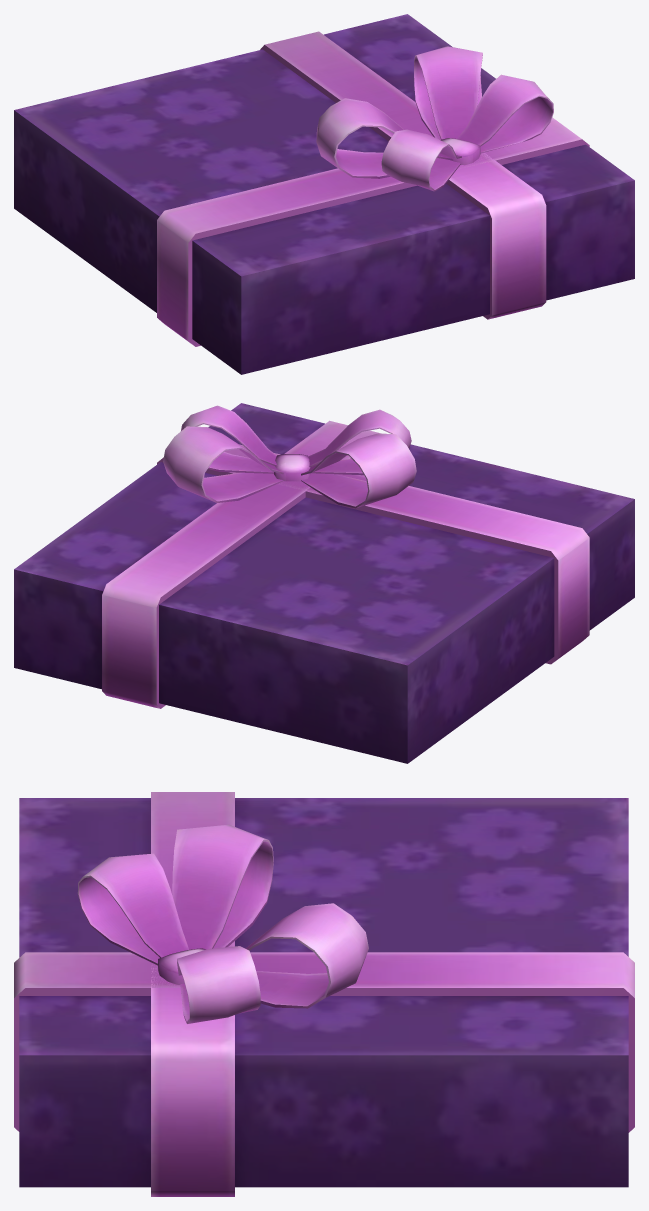
File: present_3.glb
3 renders of one model, top to bottom at view 1: azimuth 30°, elevation 25°; view 2: azimuth 150°, elevation 25°; view 3: azimuth 270°, elevation 25°, orthographic. The views are drawn at different scales.
Parts seen in each view (by area): view 1: present_3; view 2: present_3; view 3: present_3.
Boxes of the visible parts, x1,y1,x2,y2 form: present_3: (14,14,634,374); present_3: (14,403,634,763); present_3: (14,792,634,1196).
Bounding box in the file's own units: 0.4077 × 0.1704 × 0.4077.
1 material, 1 textured.
